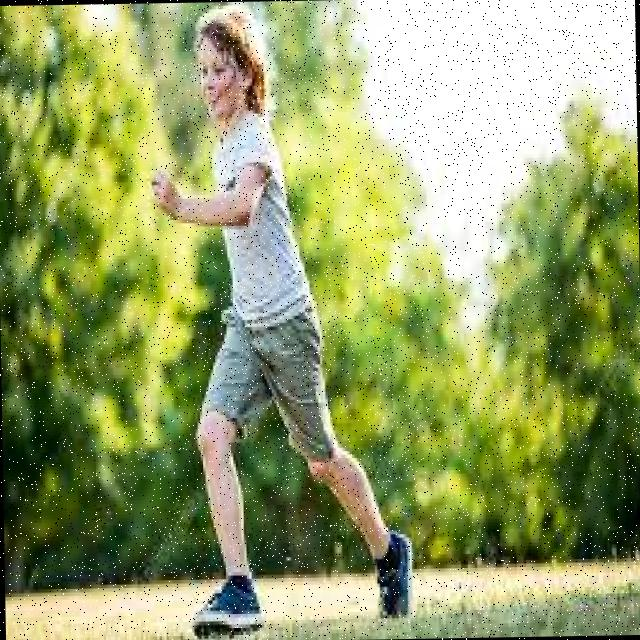Person: (148, 4, 412, 635)
